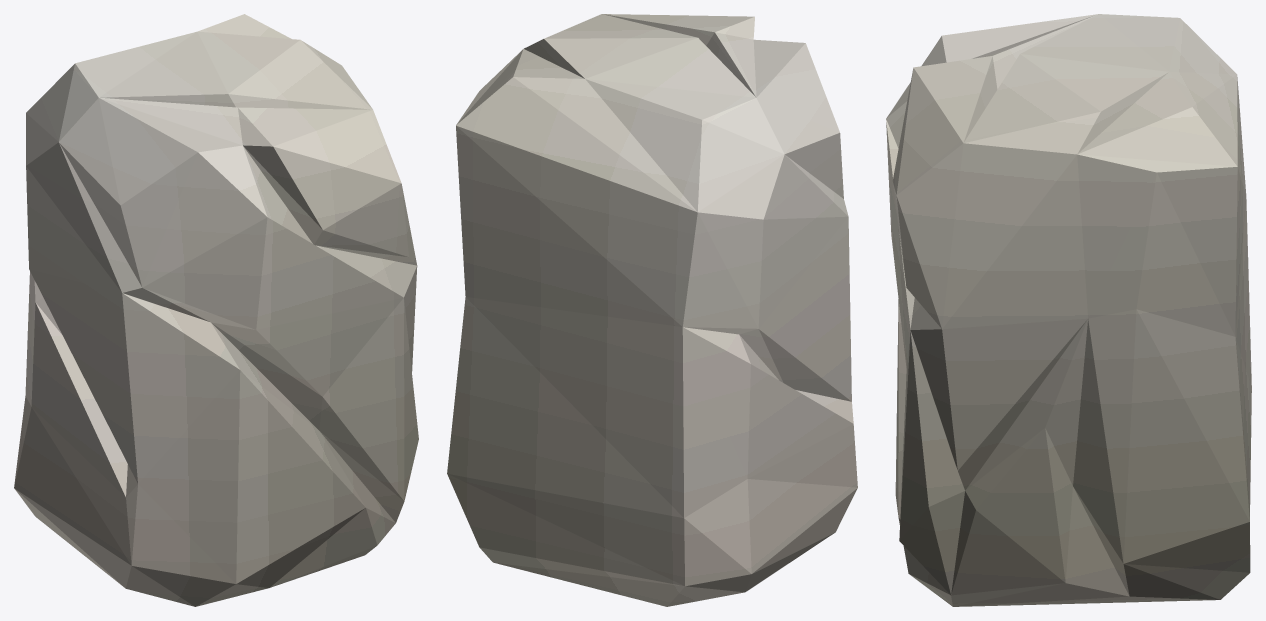
File: 3D_PillarSquare2.fbx
3 views of the same model, side by side, from view 1: azimuth 30°, elevation 25°; view 2: azimuth 150°, elevation 25°; view 3: azimuth 270°, elevation 25° (orthographic). The views are drawn at different scales.
Parts seen in each view (by area): view 1: PillarSquare2; view 2: PillarSquare2; view 3: PillarSquare2.
Part boxes in pixels (bbox=[...]): PillarSquare2: bbox=[14, 14, 418, 606]; PillarSquare2: bbox=[447, 14, 857, 606]; PillarSquare2: bbox=[886, 14, 1251, 606].
Bounding box in the file's own units: 53 × 82.38 × 54.02.
